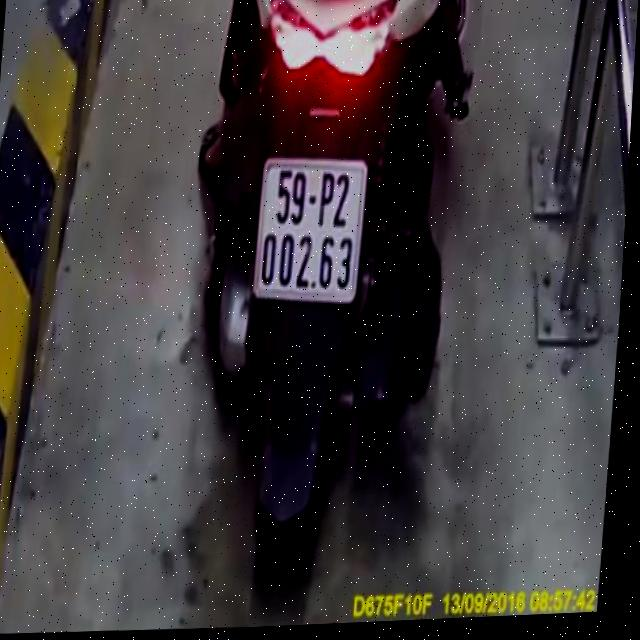motorcycle: (149, 0, 487, 592)
plate: (243, 149, 373, 312)
